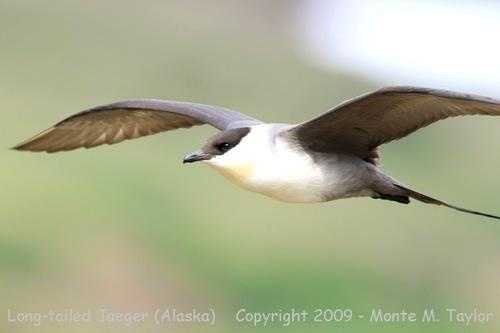bird: (15, 84, 500, 214)
